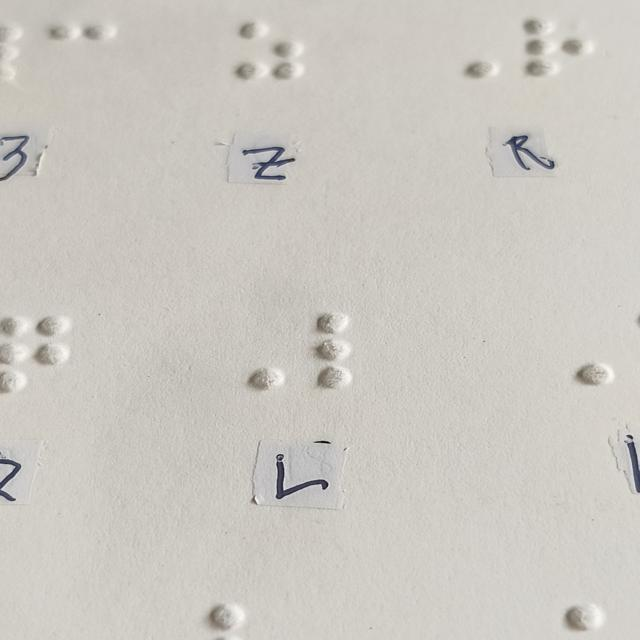L: (319, 313, 388, 389)
capital: (214, 313, 283, 389)
q: (0, 314, 68, 395)
